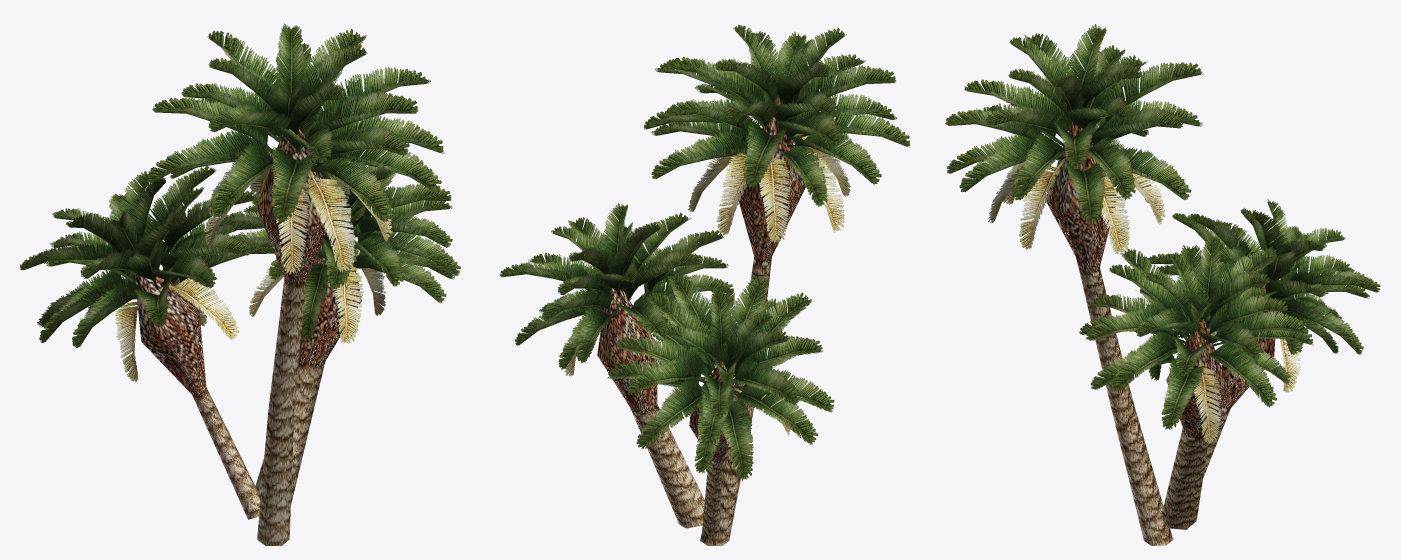
The model's file is tree_cretan_date_palm_patch_01.dae.
3 renders of one model, left to right at view 1: azimuth 30°, elevation 25°; view 2: azimuth 150°, elevation 25°; view 3: azimuth 270°, elevation 25°, orthographic. The views are drawn at different scales.
Parts seen in each view (by area): view 1: Cretan_Date_Palm_Patch_01; view 2: Cretan_Date_Palm_Patch_01; view 3: Cretan_Date_Palm_Patch_01.
Boxes of the visible parts, left/top/right/bottom form: Cretan_Date_Palm_Patch_01: left=20, top=23, right=460, bottom=545; Cretan_Date_Palm_Patch_01: left=499, top=25, right=909, bottom=545; Cretan_Date_Palm_Patch_01: left=945, top=24, right=1380, bottom=545.
Bounding box in the file's own units: 12.91 × 17.73 × 14.7.
